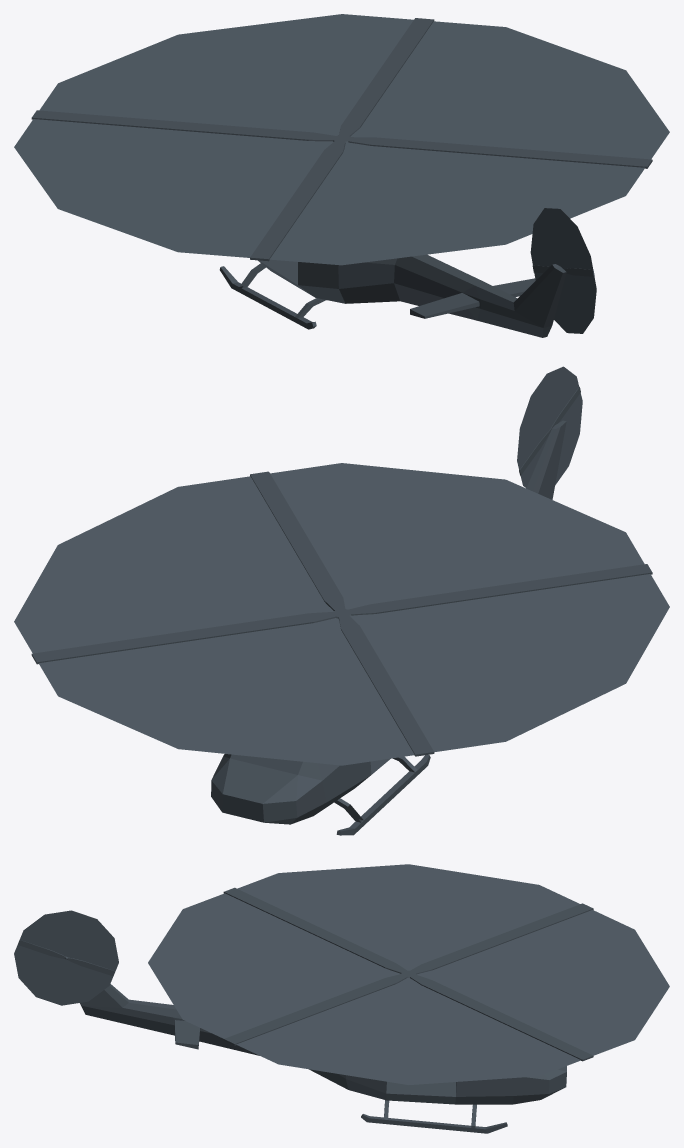
File: Heli-412.glb
3 views of the same model, one above another, from view 1: azimuth 30°, elevation 25°; view 2: azimuth 150°, elevation 25°; view 3: azimuth 270°, elevation 25° (orthographic). The views are drawn at different scales.
Size of the model in its own units: 15.14 by 6.46 by 18.99.
